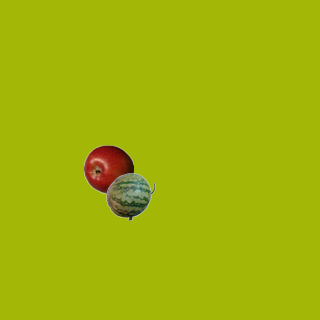Apple Braeburn: (83, 144, 133, 194)
Watermelon: (105, 171, 155, 221)
